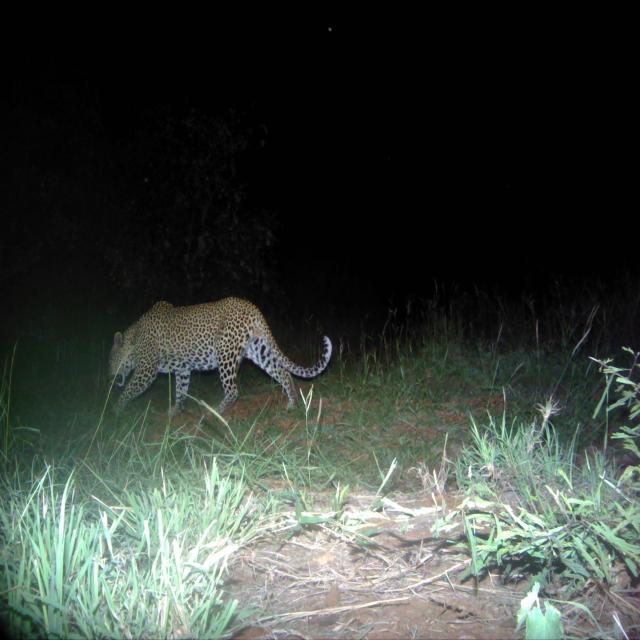Leopard: (104, 290, 345, 426)
